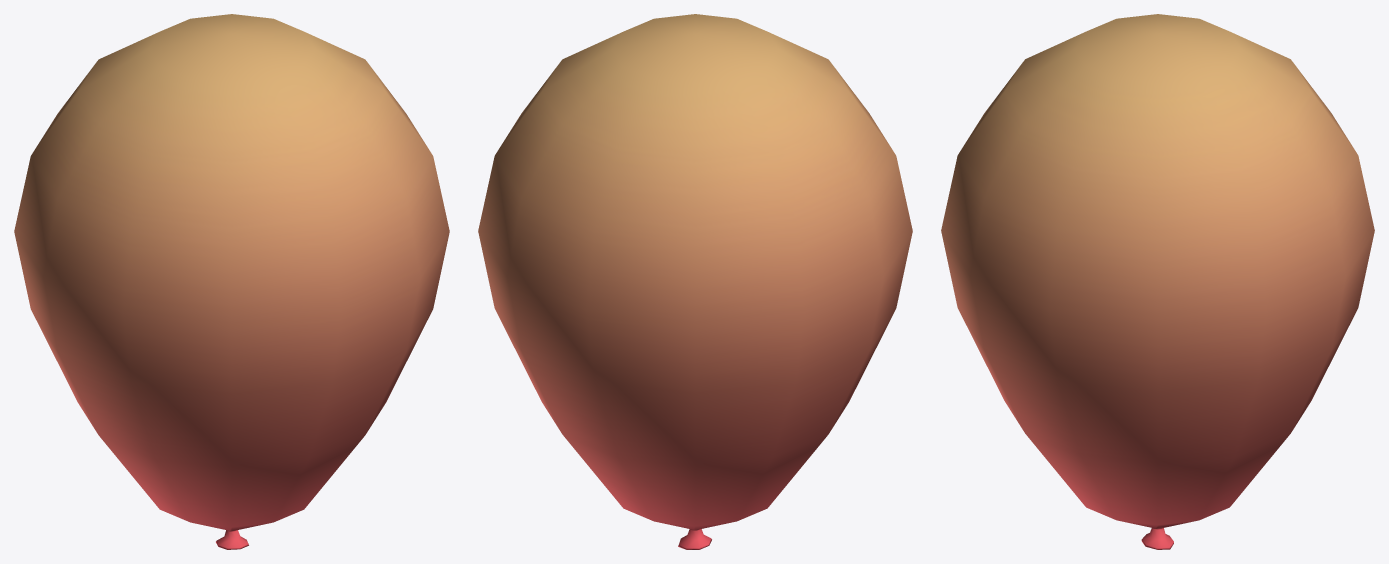
The model's file is SM_balloon_orange.fbx.
The picture shows the model from 3 angles, left to right: view 1: azimuth 30°, elevation 25°; view 2: azimuth 150°, elevation 25°; view 3: azimuth 270°, elevation 25°; orthographic projection.
Visible parts, largest first — view 1: Cube.021; view 2: Cube.021; view 3: Cube.021.
Part boxes in pixels (x1,y1,x2,y2): Cube.021: (14,14,449,549); Cube.021: (478,14,912,549); Cube.021: (941,14,1374,549).
Size of the model in its own units: 121 by 157 by 121.
